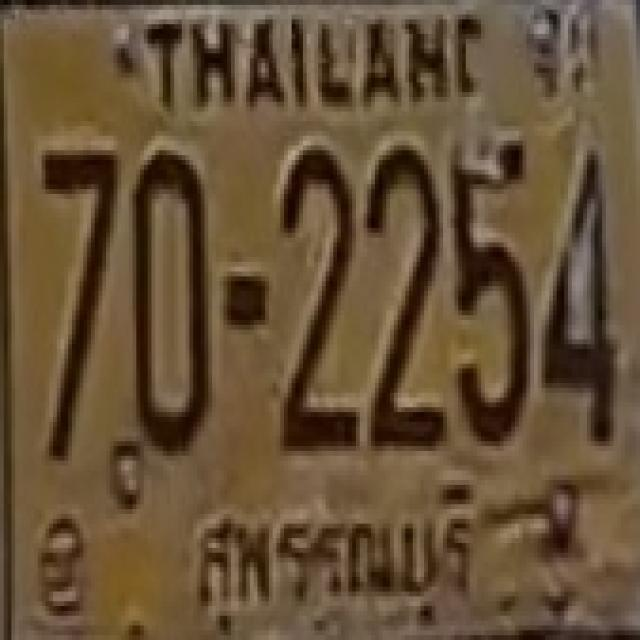0: (129, 148, 208, 448)
2: (367, 216, 443, 444), (278, 226, 354, 444)
4: (542, 146, 614, 442)
7: (42, 146, 117, 340)
SPB: (183, 480, 492, 635)
